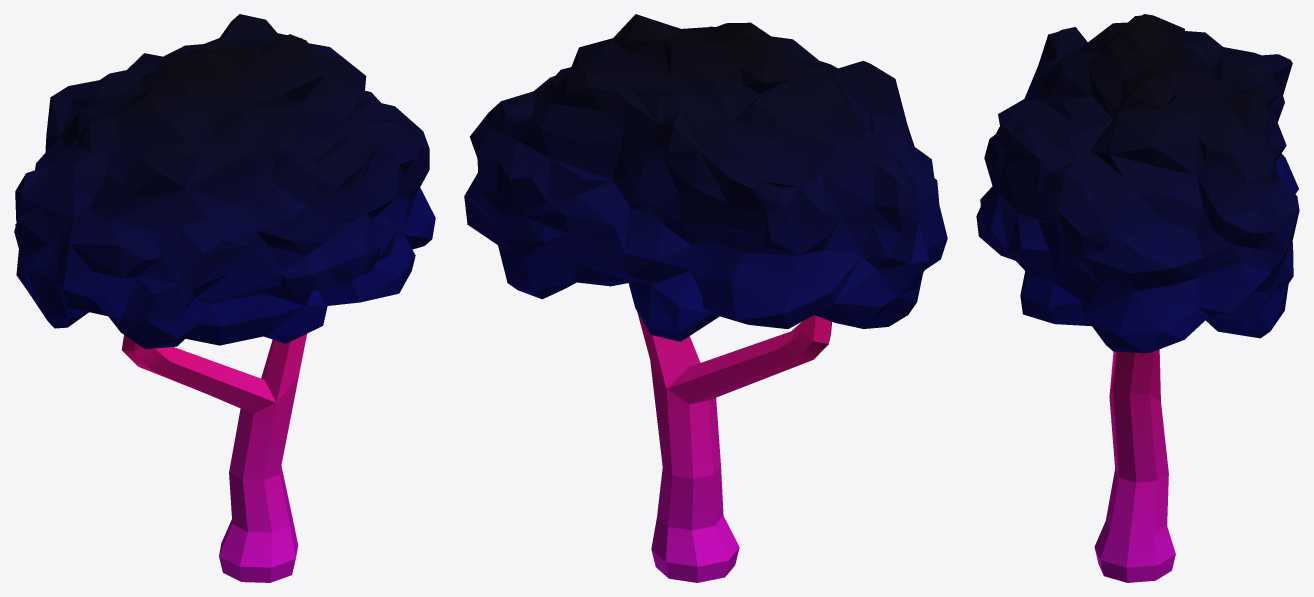
File: synty-tree-round-05.gltf
The picture shows the model from 3 angles, left to right: view 1: azimuth 30°, elevation 25°; view 2: azimuth 150°, elevation 25°; view 3: azimuth 270°, elevation 25°; orthographic projection. The views are drawn at different scales.
Parts seen in each view (by area): view 1: SM_Tree_Round_05; view 2: SM_Tree_Round_05; view 3: SM_Tree_Round_05.
Part boxes in pixels (left/top/right/bottom): SM_Tree_Round_05: left=14, top=14, right=435, bottom=582; SM_Tree_Round_05: left=464, top=14, right=947, bottom=582; SM_Tree_Round_05: left=976, top=14, right=1299, bottom=582.
Size of the model in its own units: 3.8 by 4.85 by 2.65.
